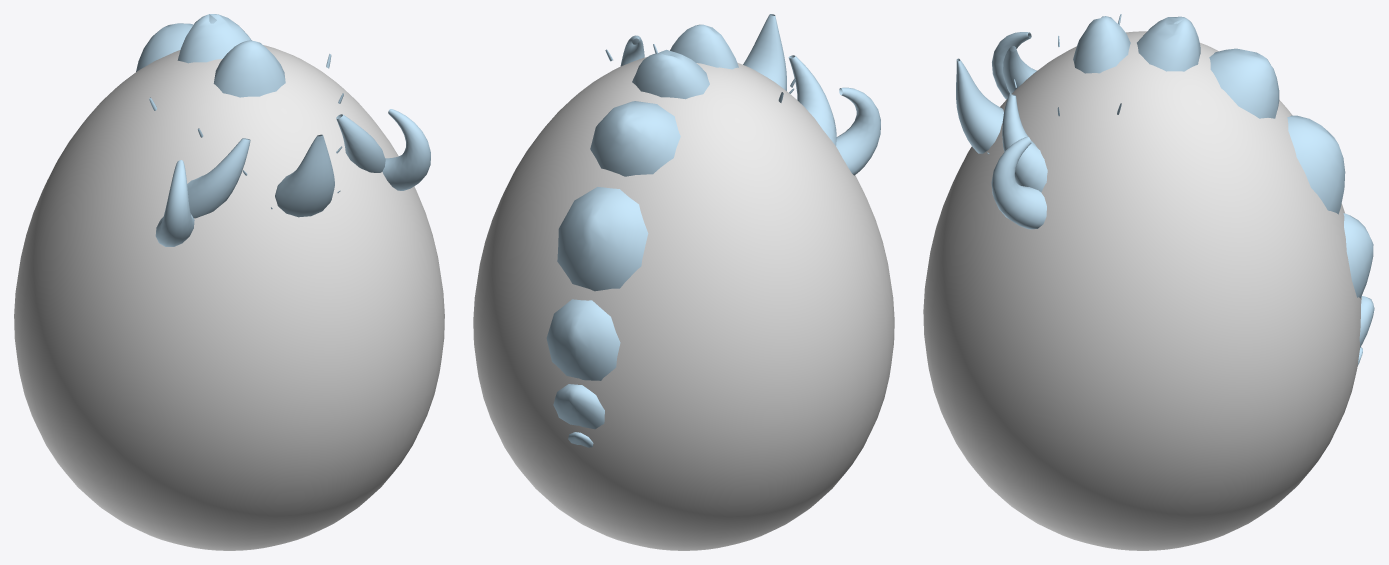
Rendered from MonchiEgg.fbx.
3 renders of one model, left to right at view 1: azimuth 30°, elevation 25°; view 2: azimuth 150°, elevation 25°; view 3: azimuth 270°, elevation 25°, orthographic. The views are drawn at different scales.
Parts seen in each view (by area): view 1: Egg_Scales, Egg_Back_A, Egg_Horn_C, Egg_Horn_A, Egg_Horn_B; view 2: Egg_Scales, Egg_Back_A, Egg_Horn_C, Egg_Horn_B, Egg_Horn_A; view 3: Egg_Scales, Egg_Back_A, Egg_Horn_C, Egg_Horn_A, Egg_Horn_B.
Part boxes in pixels (bbox=[...]): Egg_Scales: bbox=[14, 45, 444, 550]; Egg_Back_A: bbox=[136, 14, 285, 97]; Egg_Horn_C: bbox=[155, 109, 430, 246]; Egg_Horn_A: bbox=[187, 114, 385, 218]; Egg_Horn_B: bbox=[275, 134, 334, 217]; Egg_Scales: bbox=[473, 57, 894, 550]; Egg_Back_A: bbox=[546, 24, 738, 447]; Egg_Horn_C: bbox=[620, 35, 880, 175]; Egg_Horn_B: bbox=[743, 14, 786, 90]; Egg_Horn_A: bbox=[788, 55, 836, 145]; Egg_Scales: bbox=[923, 31, 1361, 550]; Egg_Back_A: bbox=[1073, 16, 1374, 365]; Egg_Horn_C: bbox=[991, 32, 1046, 229]; Egg_Horn_A: bbox=[1002, 46, 1047, 192]; Egg_Horn_B: bbox=[956, 58, 1003, 153].
Size of the model in its own units: 0.2642 by 0.3401 by 0.2714.
